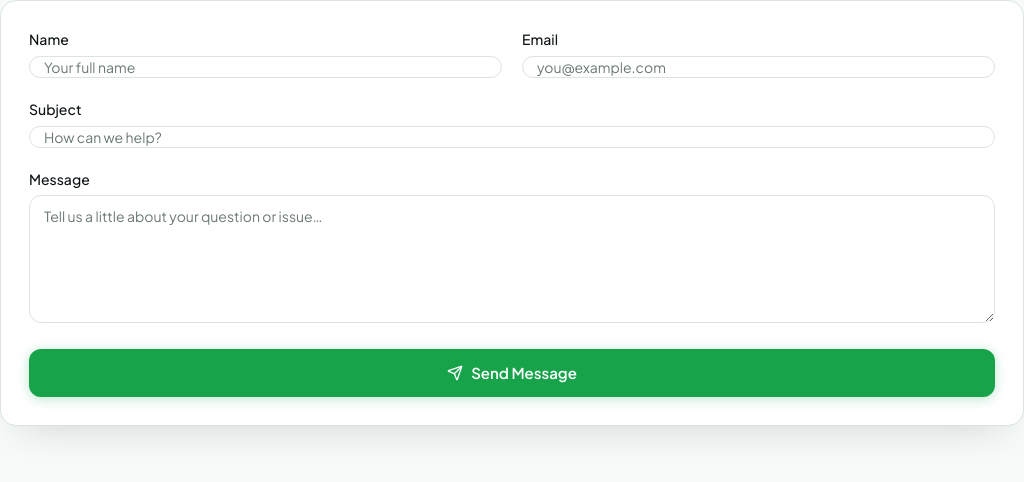
Scenario: ContactForm › flags a malformed email inline
Type "Ada Obi" into the field labelled "Name" at (266, 67), box [29,56,502,78]
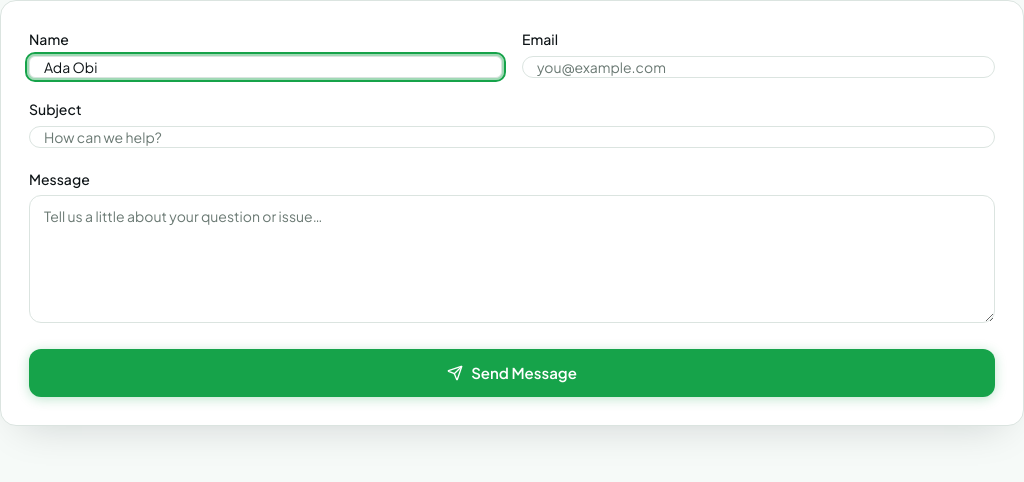
Type "not-an-email" into the field labelled "Email" at (758, 67), box [522,56,995,78]
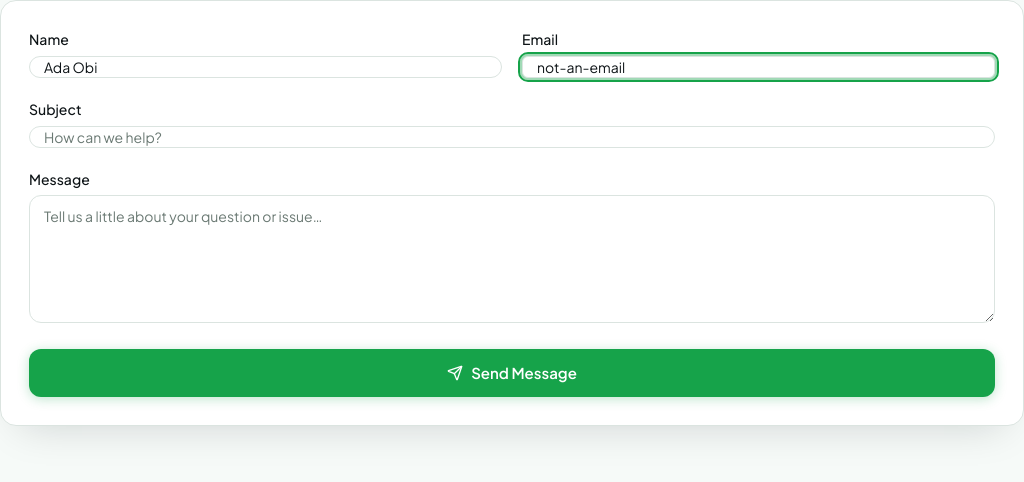
Type "Wallet funding help" into the field labelled "Subject" at (512, 137), box [29,126,995,148]
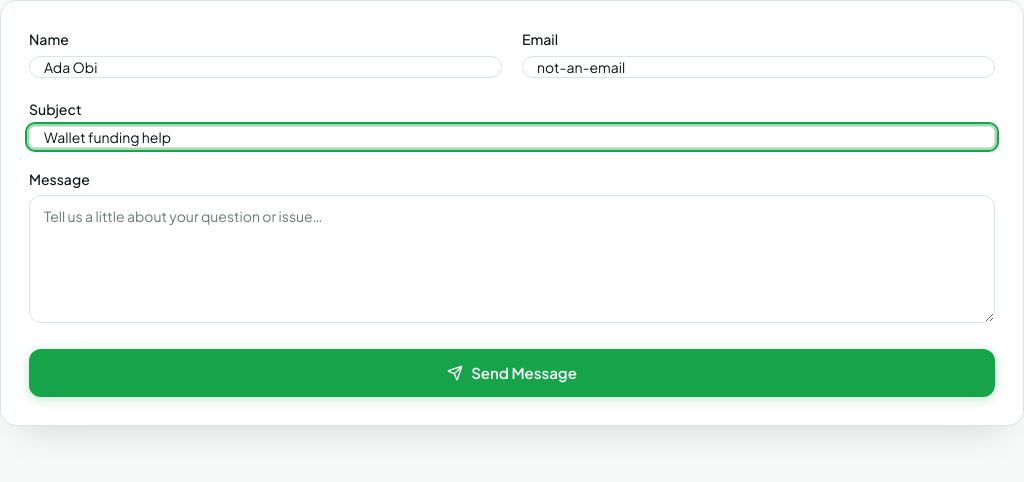
Type "Hi LonePay, I transferred to my virtual account but the funds have not reflected yet. Please help." into the text box labelled "Message" at (512, 259), box [29,195,995,323]
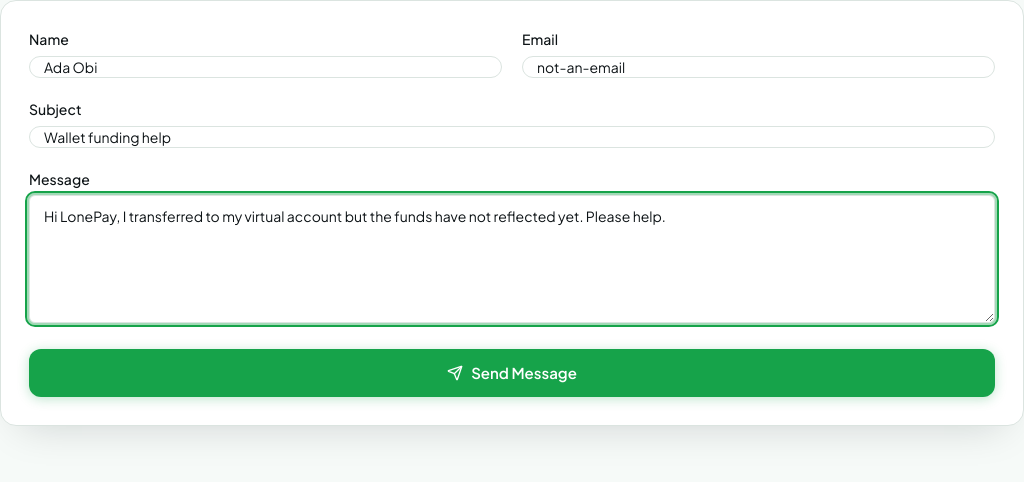
Click the button "Send Message" at (512, 373), box [29,349,995,397]
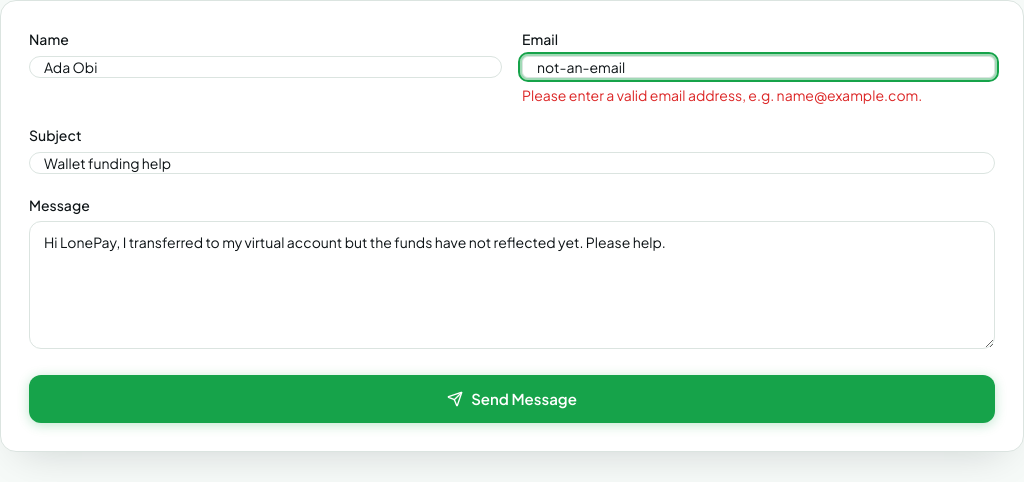
Expected: the text "Please enter a valid email address, e.g. name@example.com." is shown, [522,86,922,104]
